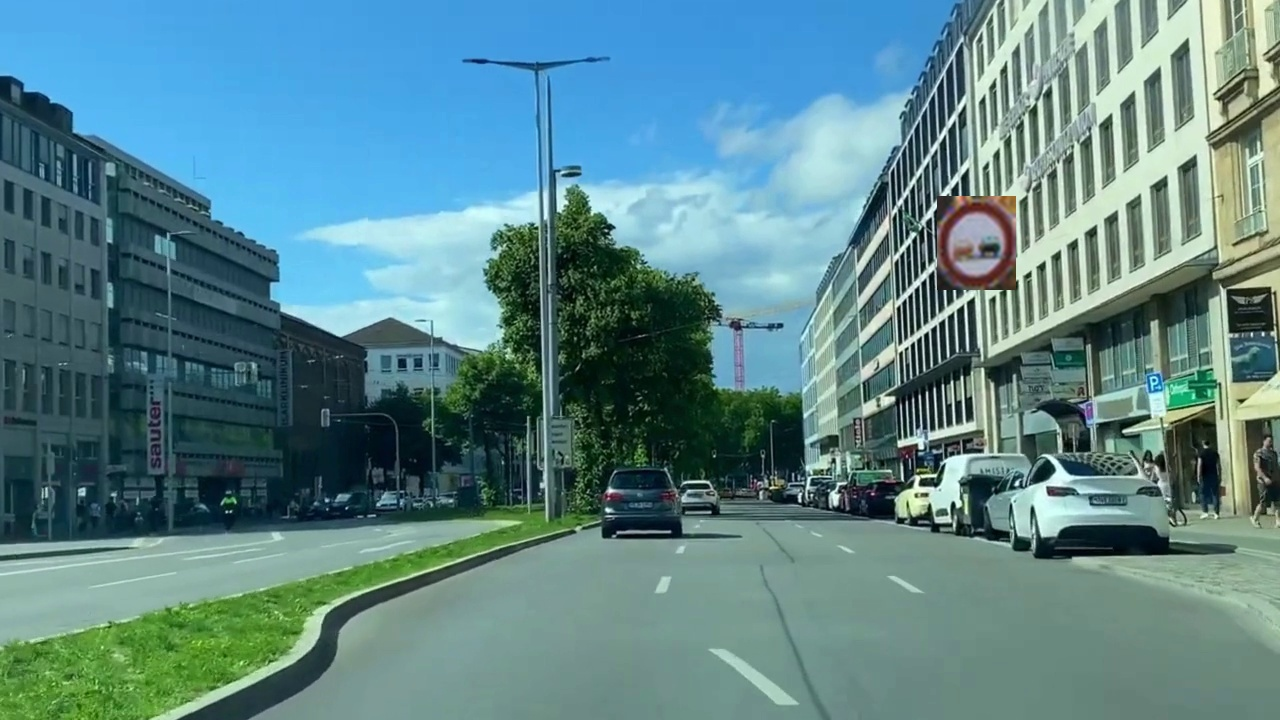No passing: (937, 196, 1016, 290)
